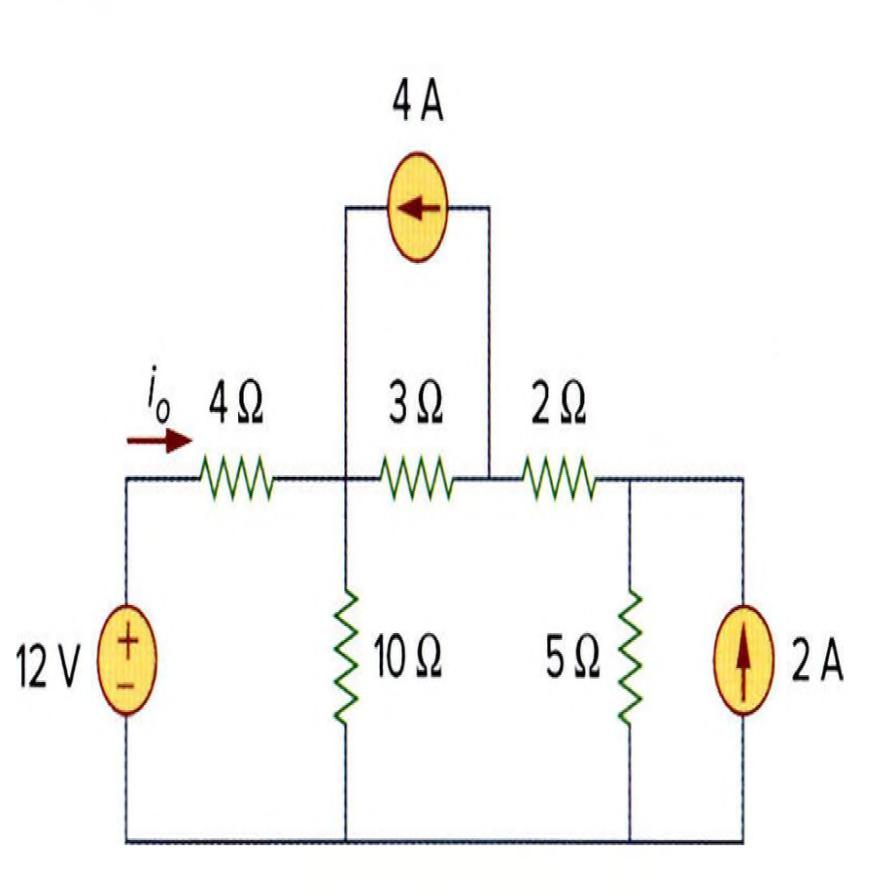I1: (704, 579, 779, 742)
I4: (374, 141, 460, 282)
R1: (377, 438, 464, 528), (517, 443, 607, 526), (194, 444, 282, 524)
R2: (601, 574, 655, 742), (320, 572, 371, 740)
V1: (93, 592, 162, 722)
